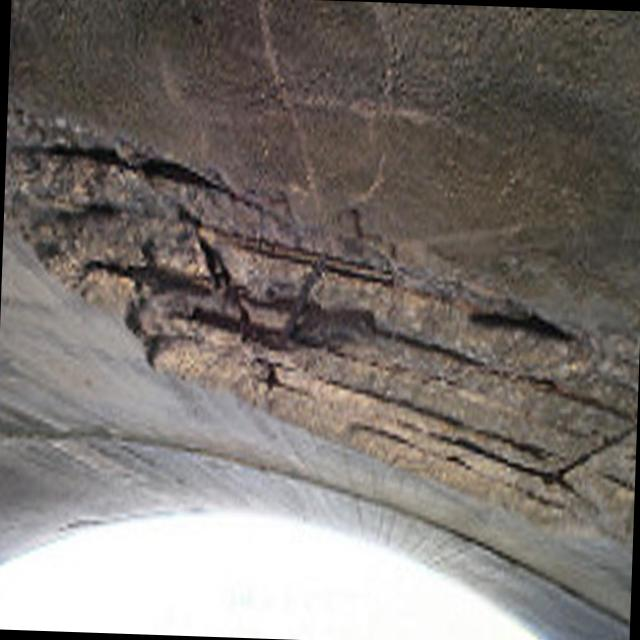spalling: (4, 121, 639, 537)
